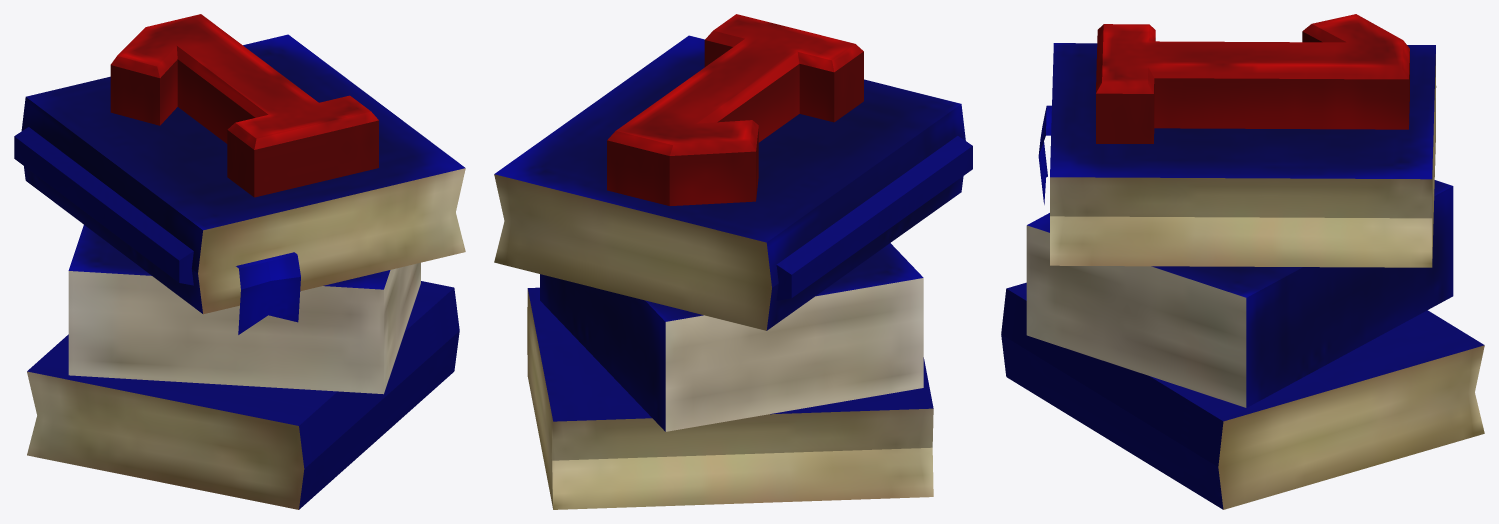
File: MINI05_Books_1.fbx
3 renders of one model, left to right at view 1: azimuth 30°, elevation 25°; view 2: azimuth 150°, elevation 25°; view 3: azimuth 270°, elevation 25°, orthographic. The views are drawn at different scales.
Parts seen in each view (by area): view 1: MINI05_Books_1_Model; view 2: MINI05_Books_1_Model; view 3: MINI05_Books_1_Model.
Boxes of the visible parts, bbox=[...] form: MINI05_Books_1_Model: bbox=[14, 14, 465, 509]; MINI05_Books_1_Model: bbox=[494, 14, 972, 509]; MINI05_Books_1_Model: bbox=[1001, 14, 1484, 509].
Bounding box in the file's own units: 207 × 162 × 201.
Materials: 1 (1 with a texture image).
